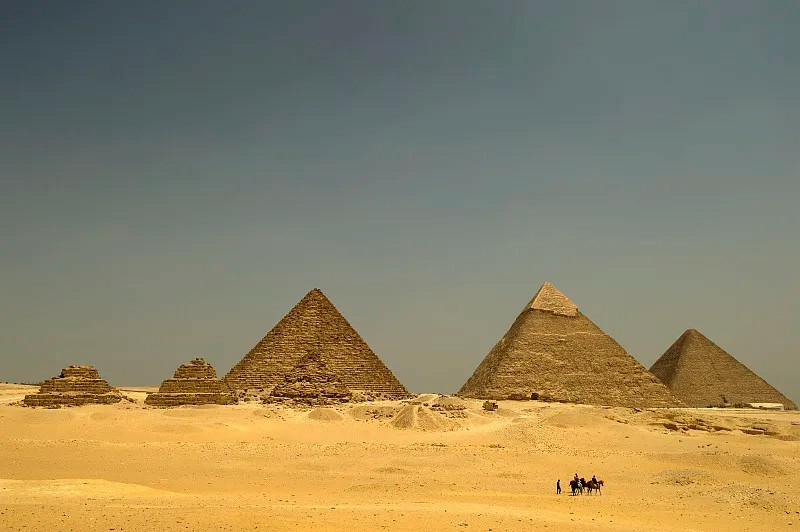Pyramid: (458, 283, 691, 406), (220, 288, 415, 401), (649, 328, 798, 412), (262, 348, 354, 405), (143, 357, 236, 404), (21, 364, 126, 405)
